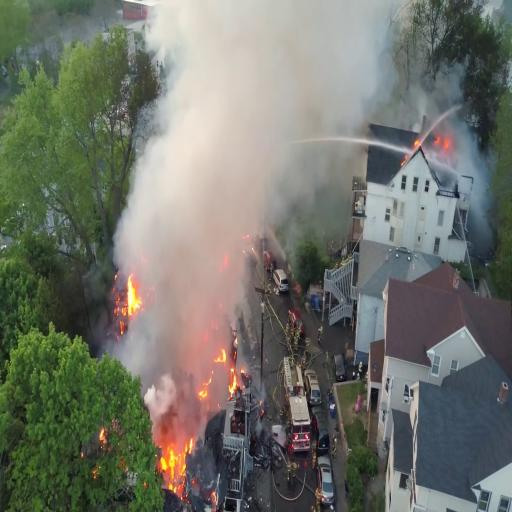fire: (162, 432, 198, 486), (213, 342, 246, 394), (118, 276, 144, 317)
smoke: (167, 6, 362, 122), (166, 6, 247, 253)
